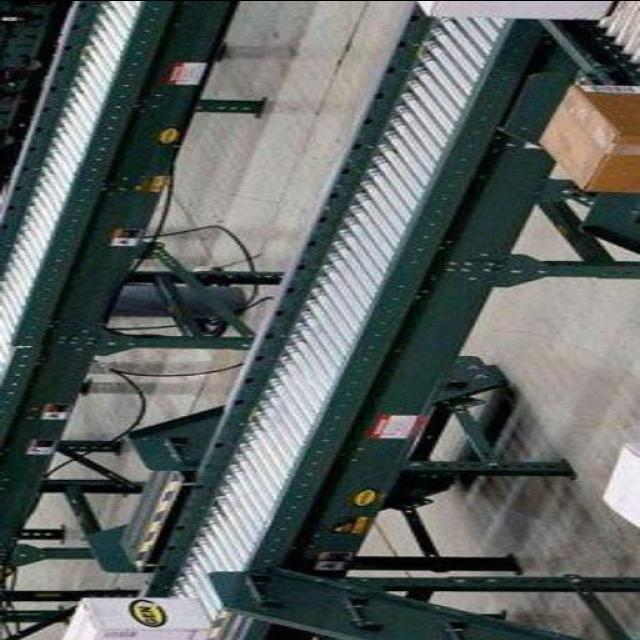conveyor: (143, 2, 515, 637)
